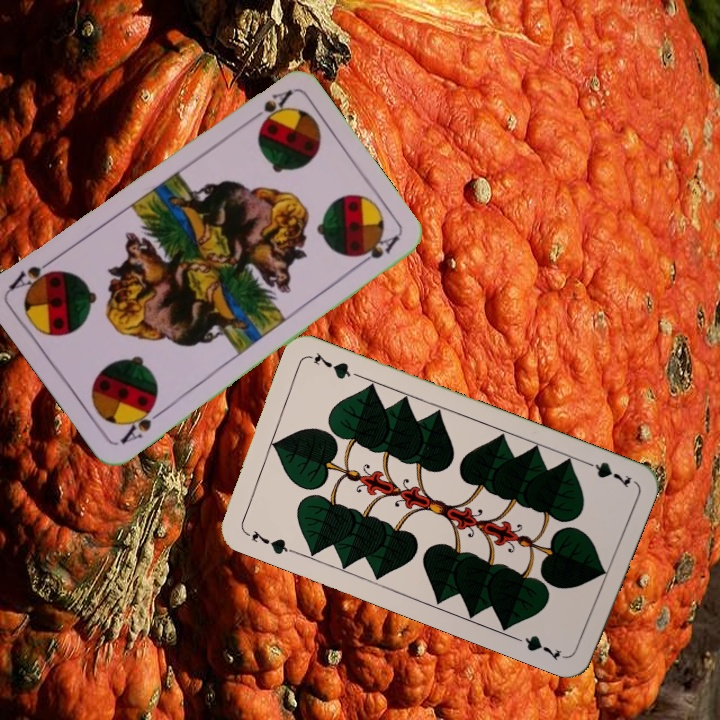G7: (578, 456, 634, 491), (240, 526, 296, 557)
SA: (115, 398, 167, 447), (242, 86, 295, 127)
